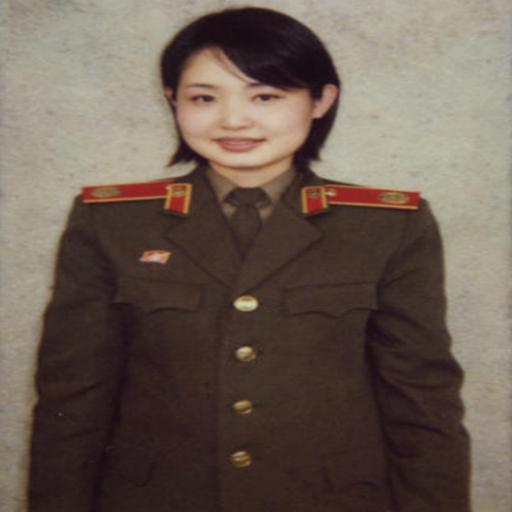north army: (43, 12, 473, 512)
